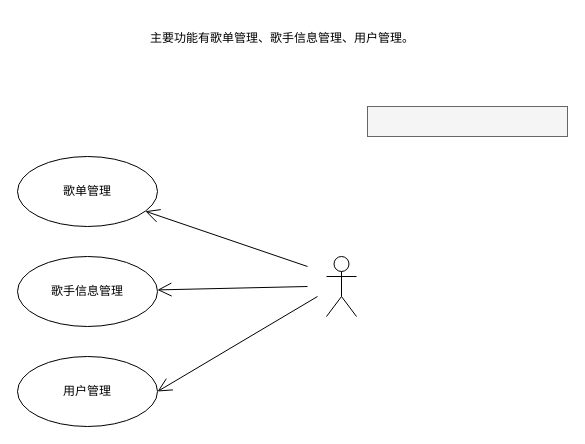
Some shapes in this 585 by 444 pixel diagram are drawn without their labels. Here are the shapes that lost their labels. From the top down, the box of each, then its label:
(366, 106, 568, 136): 后台系统功能用例图
(326, 256, 356, 316): 管理员
